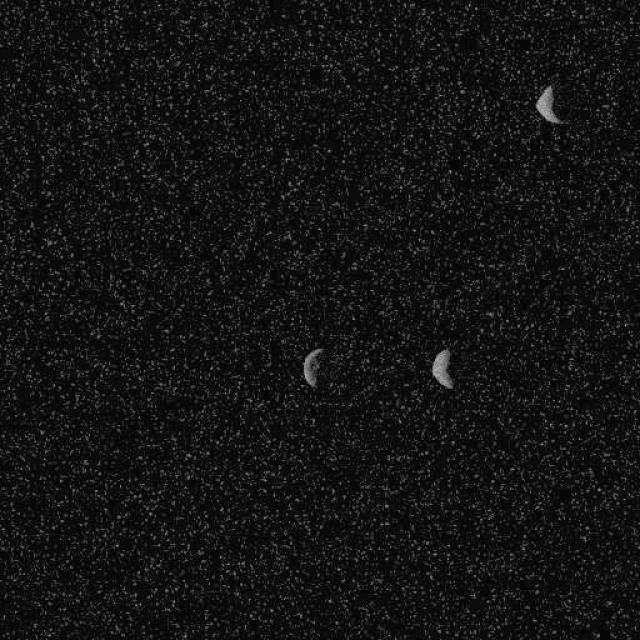D2: (534, 83, 566, 125), (430, 348, 454, 388), (301, 347, 324, 388)
